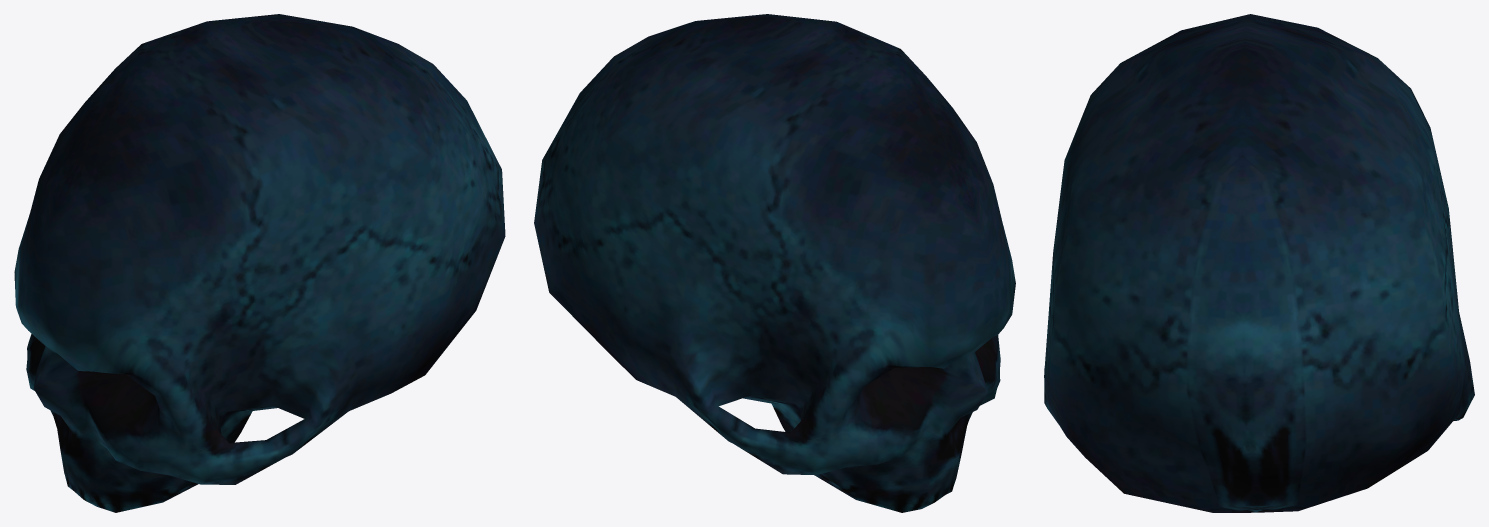
File: pt_glowing_skullhead_l0.fbx
3 views of the same model, side by side, from view 1: azimuth 30°, elevation 25°; view 2: azimuth 150°, elevation 25°; view 3: azimuth 270°, elevation 25° (orthographic). The views are drawn at different scales.
Parts seen in each view (by area): view 1: mesh_node; view 2: mesh_node; view 3: mesh_node.
Boxes of the visible parts, bbox=[...] form: mesh_node: bbox=[14, 14, 505, 512]; mesh_node: bbox=[534, 14, 1015, 512]; mesh_node: bbox=[1044, 14, 1474, 512].
Bounding box in the file's own units: 0.3933 × 0.3627 × 0.2793.
